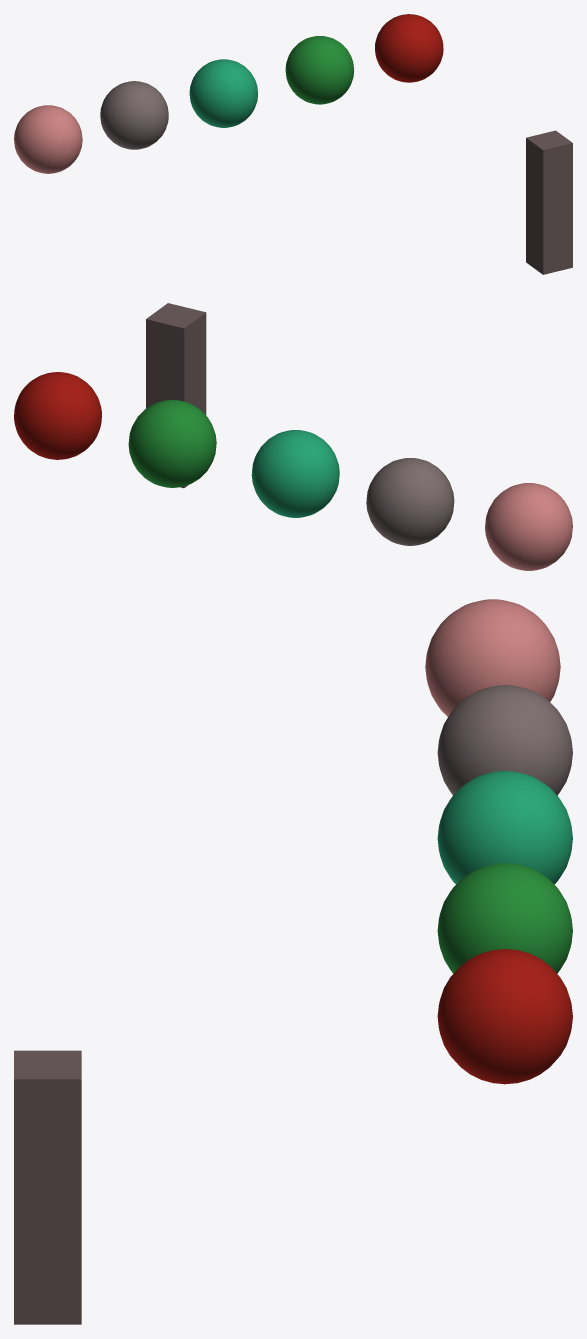
Rendered from sceneCircle3.gltf.
3 renders of one model, top to bottom at view 1: azimuth 30°, elevation 25°; view 2: azimuth 150°, elevation 25°; view 3: azimuth 270°, elevation 25°, orthographic. The views are drawn at different scales.
Visible parts, largest first — view 1: Sphere (×5), Box; view 2: Sphere (×5), Box; view 3: Sphere (×5), Box.
Boxes of the visible parts, x1,y1,x2,y2 form: Sphere (×5): [14, 14, 443, 173]; Box: [526, 130, 572, 274]; Sphere (×5): [14, 372, 572, 570]; Box: [146, 303, 206, 488]; Sphere (×5): [425, 599, 572, 1084]; Box: [14, 1050, 81, 1324].
Size of what is drawn, in the model's own units: 14.53 by 5.41 by 8.26.
